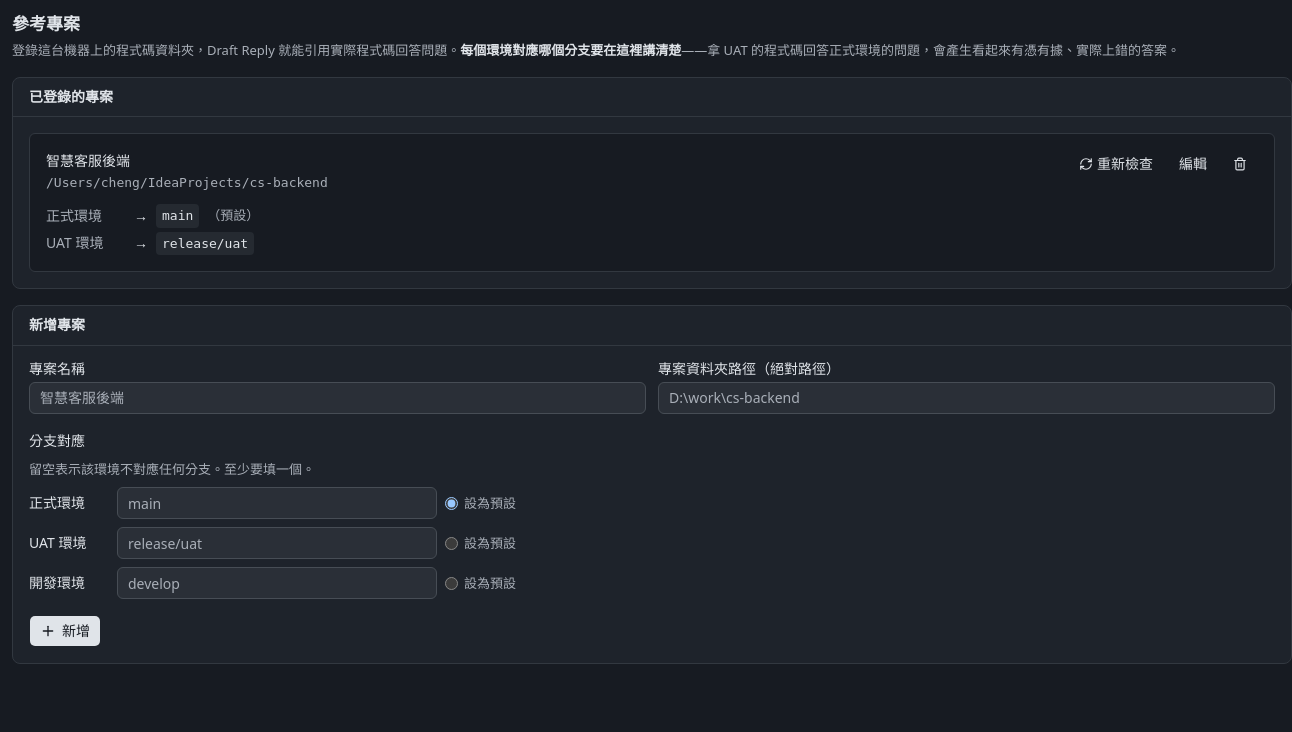
參考專案：新增／編輯表單 › 編輯中按取消回到「新增專案」的空表單
The image size is (1292, 732).
What coordinates should you click on to do the following:
click the button "編輯"
I would click on:
 (1193, 164)
Its box is [1168,150,1218,178].
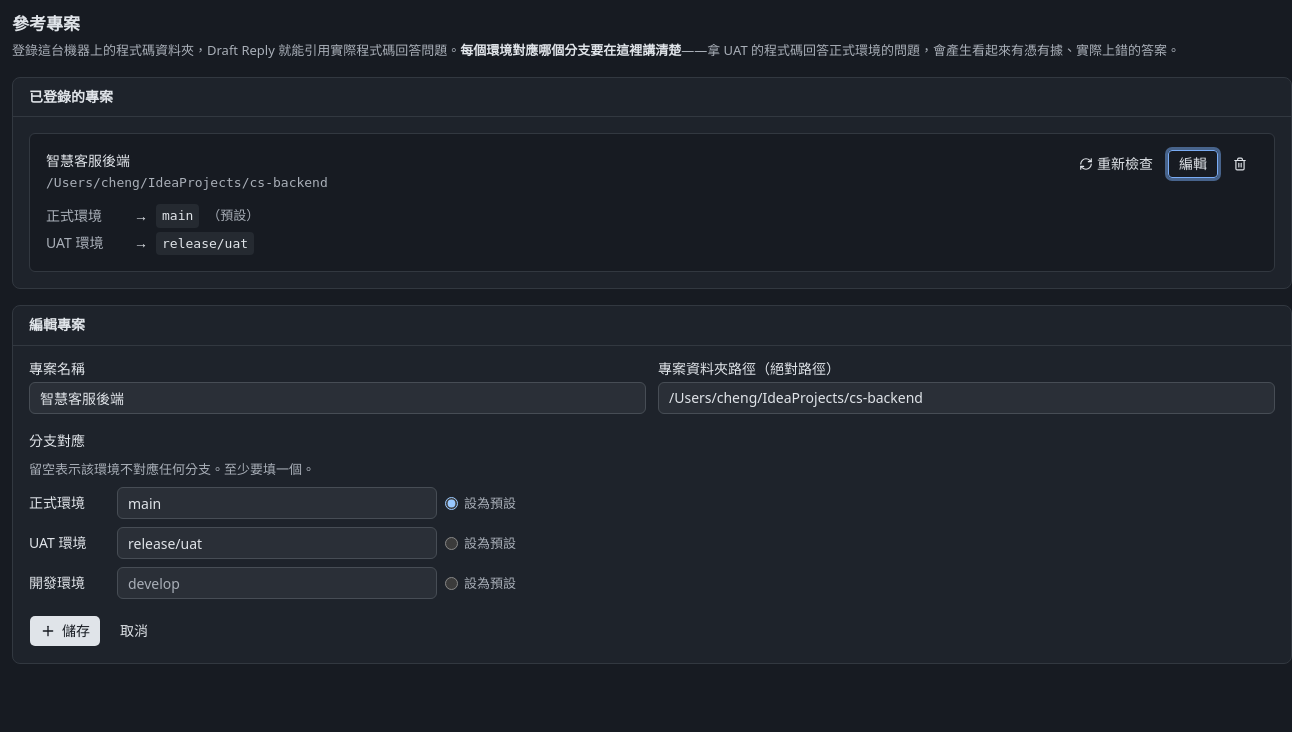
What coordinates should you click on to do the following:
click the button "取消"
I would click on:
 (134, 632)
Its box is [109,616,159,648].
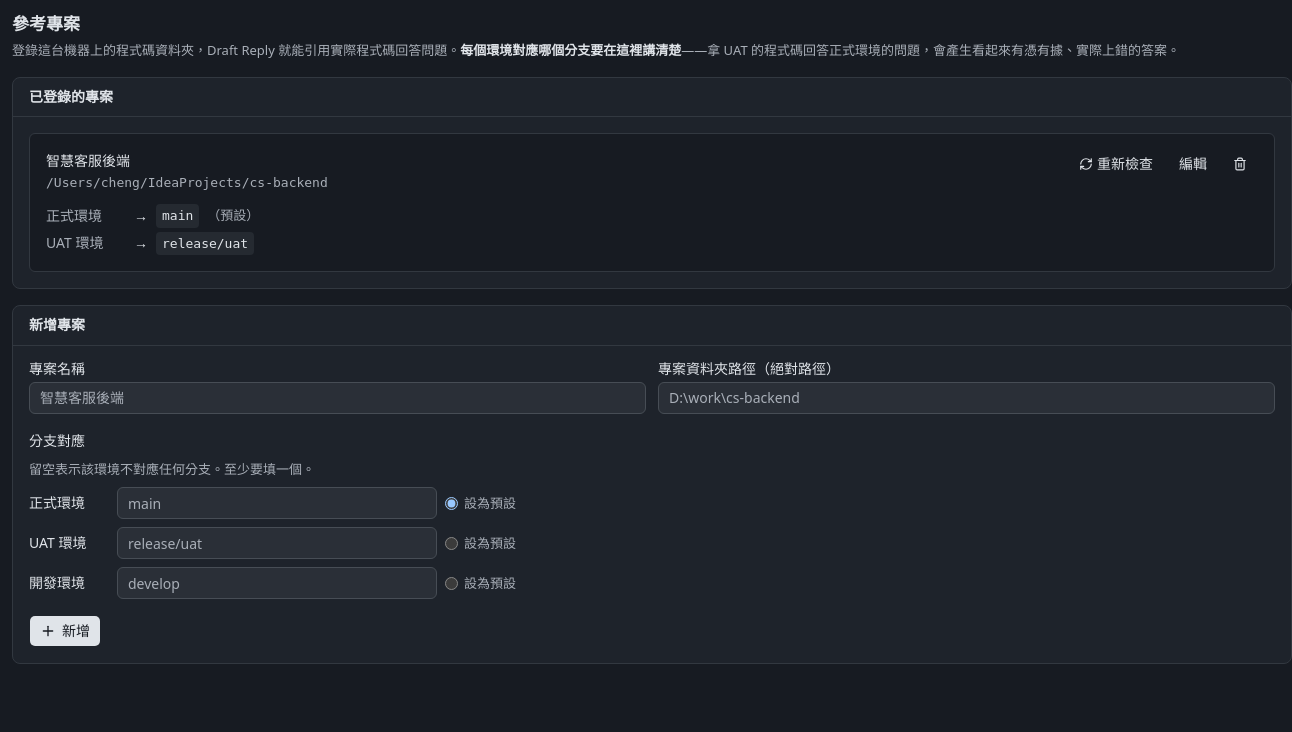
Check: the heading "新增專案" is shown, box [29,315,85,334]
Check: the field labelled "專案名稱" is empty, box [29,382,646,414]
Check: the button "取消" is gone
